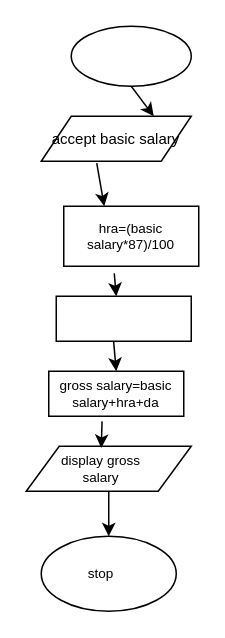
Some shapes in this 225 by 638 pixel diagram are drawn without their labels. Here are the shapes that lost their labels. From the top down, the centre of each, then its label:
At pixel 130 55: "start".
At pixel 123 318: "da=(basic salary*89)/100".
